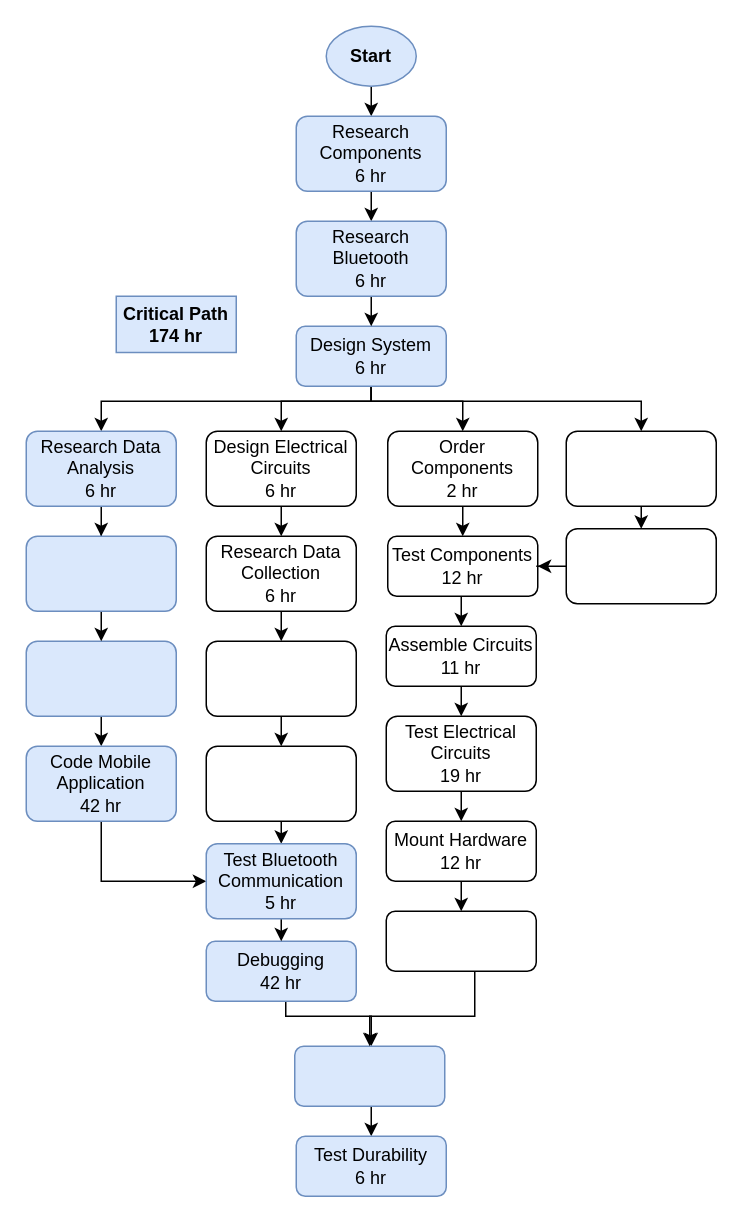
This 743x1223 diagram has some shape labels left out. The centre of each missing label's shape, as x and y in pixels:
"Assemble Wind Sensing Unit 13 hr" goes at point 640,565.
"Code Microcontrollers 42 hr" goes at point 280,783.
"Design Display UI 4 hr" goes at point 280,678.
"Design Mobile Application 8 hr" goes at point 100,678.
"Design Wind Sensing Unit 9 hr" goes at point 640,468.
"Research Mobile Development 10 hr" goes at point 100,573.
"Test Accuracy 13 hr" goes at point 369,1075.
"Weatherproof 3 hr" goes at point 460,940.
